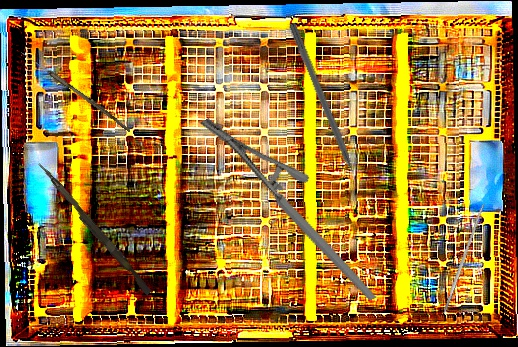Needle Holder: (197, 84, 379, 336)
Pusher: (33, 161, 155, 296), (286, 22, 365, 196)
Scalpel Handle: (441, 202, 486, 315)
Surgical Spoon: (18, 49, 133, 133)
